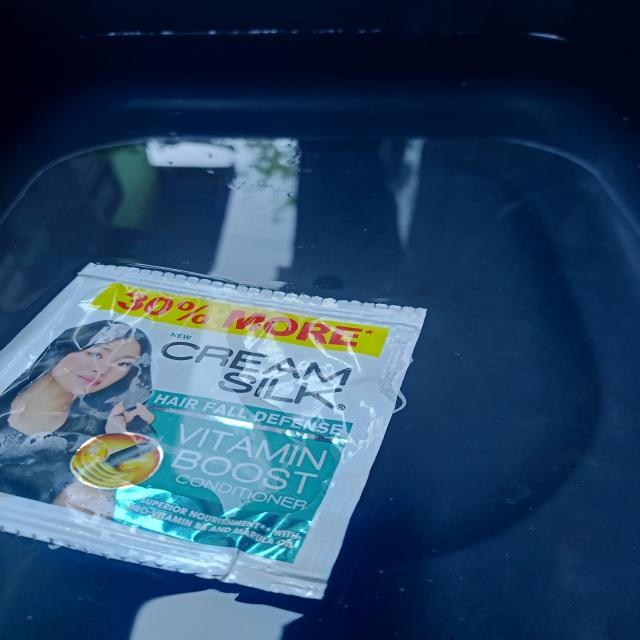Plastic Wrapper: (0, 248, 452, 611)
